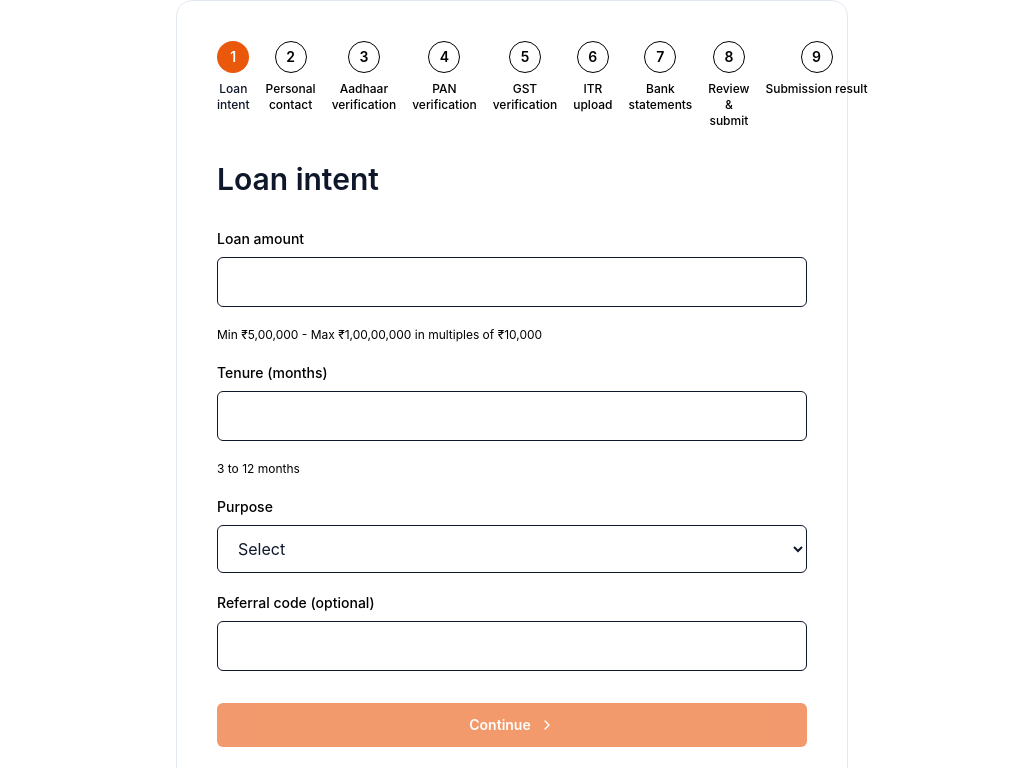
Scenario: Apply wizard flow › disables Continue until loan_intent fields become valid
The width and height of the screenshot is (1024, 768).
Check: the button "Continue" is disabled, box [217, 703, 807, 747]
Step 1. Type "500000" into the field labelled "Loan amount" → {"x": 512, "y": 282}, box [217, 257, 807, 307]
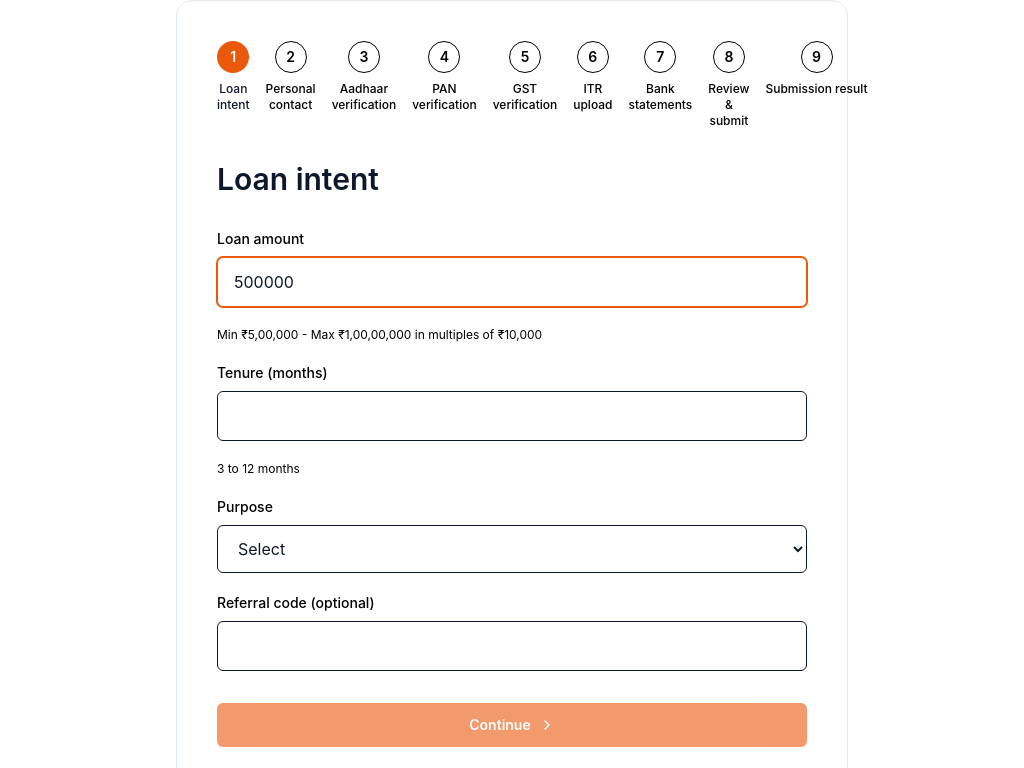
Step 2. Type "6" into the field labelled "Tenure (months)" → {"x": 512, "y": 416}, box [217, 391, 807, 441]
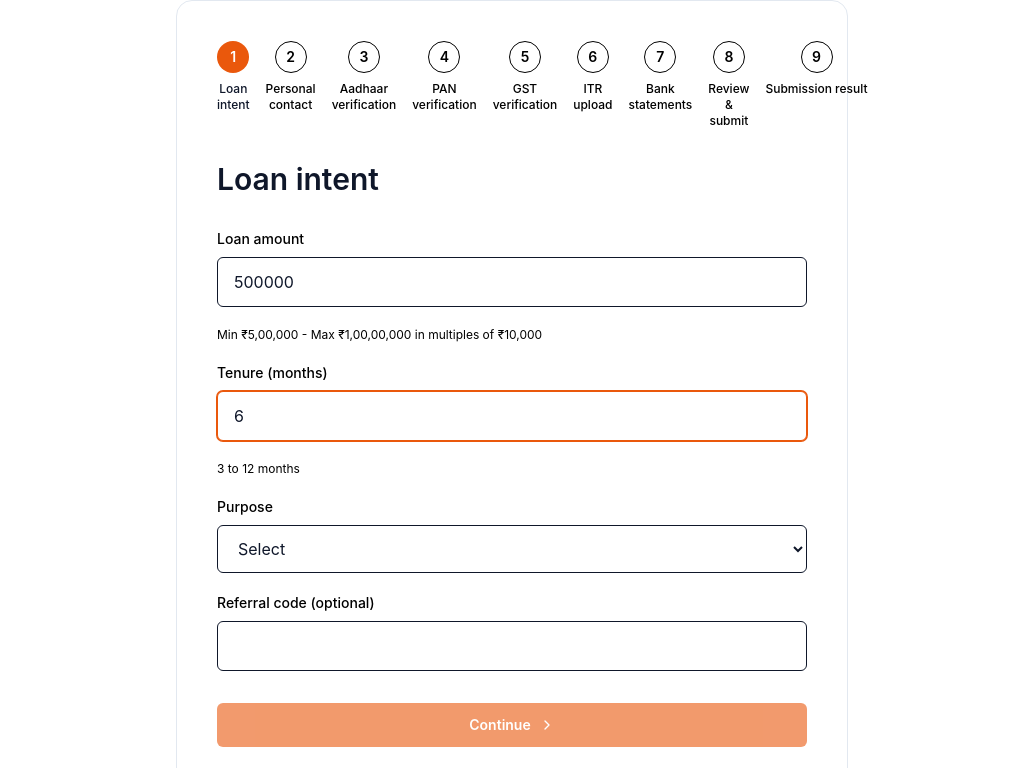
Step 3. Select "Working capital" in the dropdown labelled "Purpose" → {"x": 512, "y": 549}, box [217, 525, 807, 573]
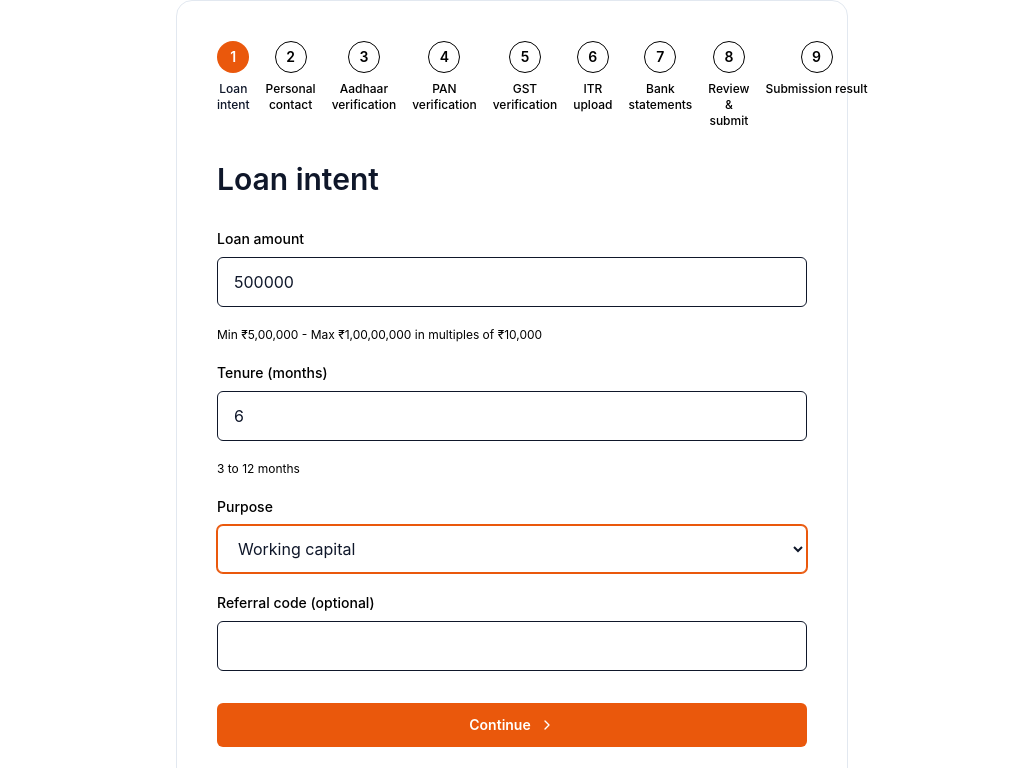
Check: the button "Continue" is enabled, box [217, 703, 807, 747]
